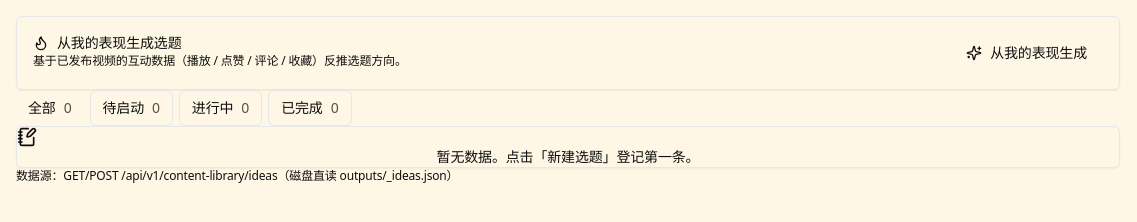
Test: IdeasPage — 从我的表现生成选题（L3-2） › data_ready=false 时渲染 hint 原文（接口返回体）
Click the button "从我的表现生成" at {"x": 1027, "y": 53}, box left=950, top=33, right=1103, bottom=73
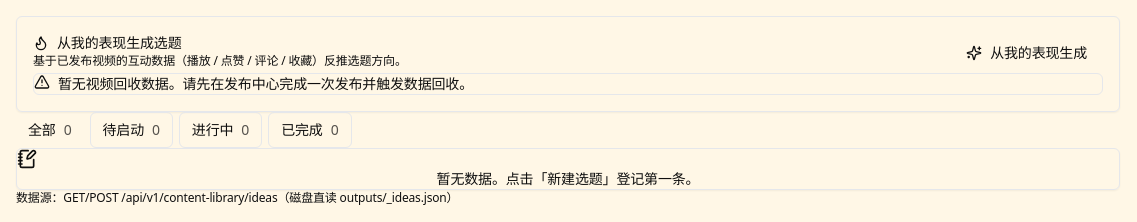
expect the text "暂无视频回收数据。请先在发布中心完成一次发布并触发数据回收。" is shown: met, box left=58, top=74, right=473, bottom=94
